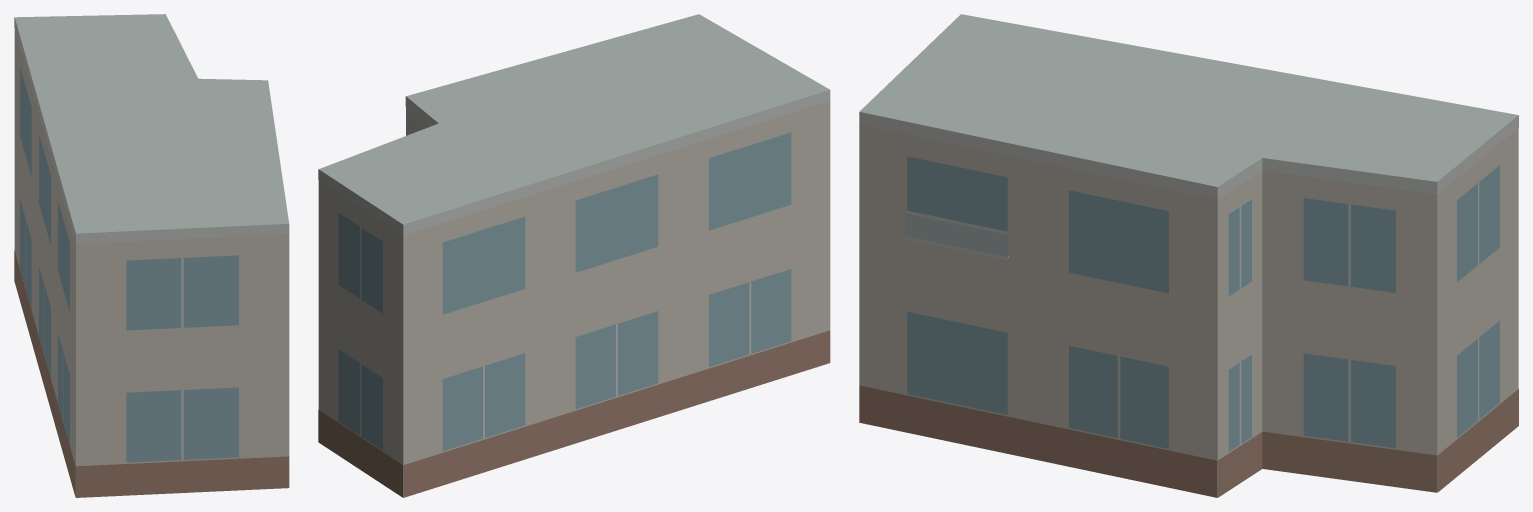
The model's file is survey-upis-32491667.glb.
3 views of the same model, side by side, from view 1: azimuth 30°, elevation 25°; view 2: azimuth 150°, elevation 25°; view 3: azimuth 270°, elevation 25° (orthographic). The views are drawn at different scales.
Visible parts, largest first — view 1: survey-upis-32491667.tmp; view 2: survey-upis-32491667.tmp; view 3: survey-upis-32491667.tmp.
Part boxes in pixels (left/top/right/bottom): survey-upis-32491667.tmp: left=14, top=14, right=289, bottom=497; survey-upis-32491667.tmp: left=318, top=14, right=830, bottom=497; survey-upis-32491667.tmp: left=859, top=14, right=1518, bottom=497.
Size of the model in its own units: 7.29 by 6.1 by 11.74.
